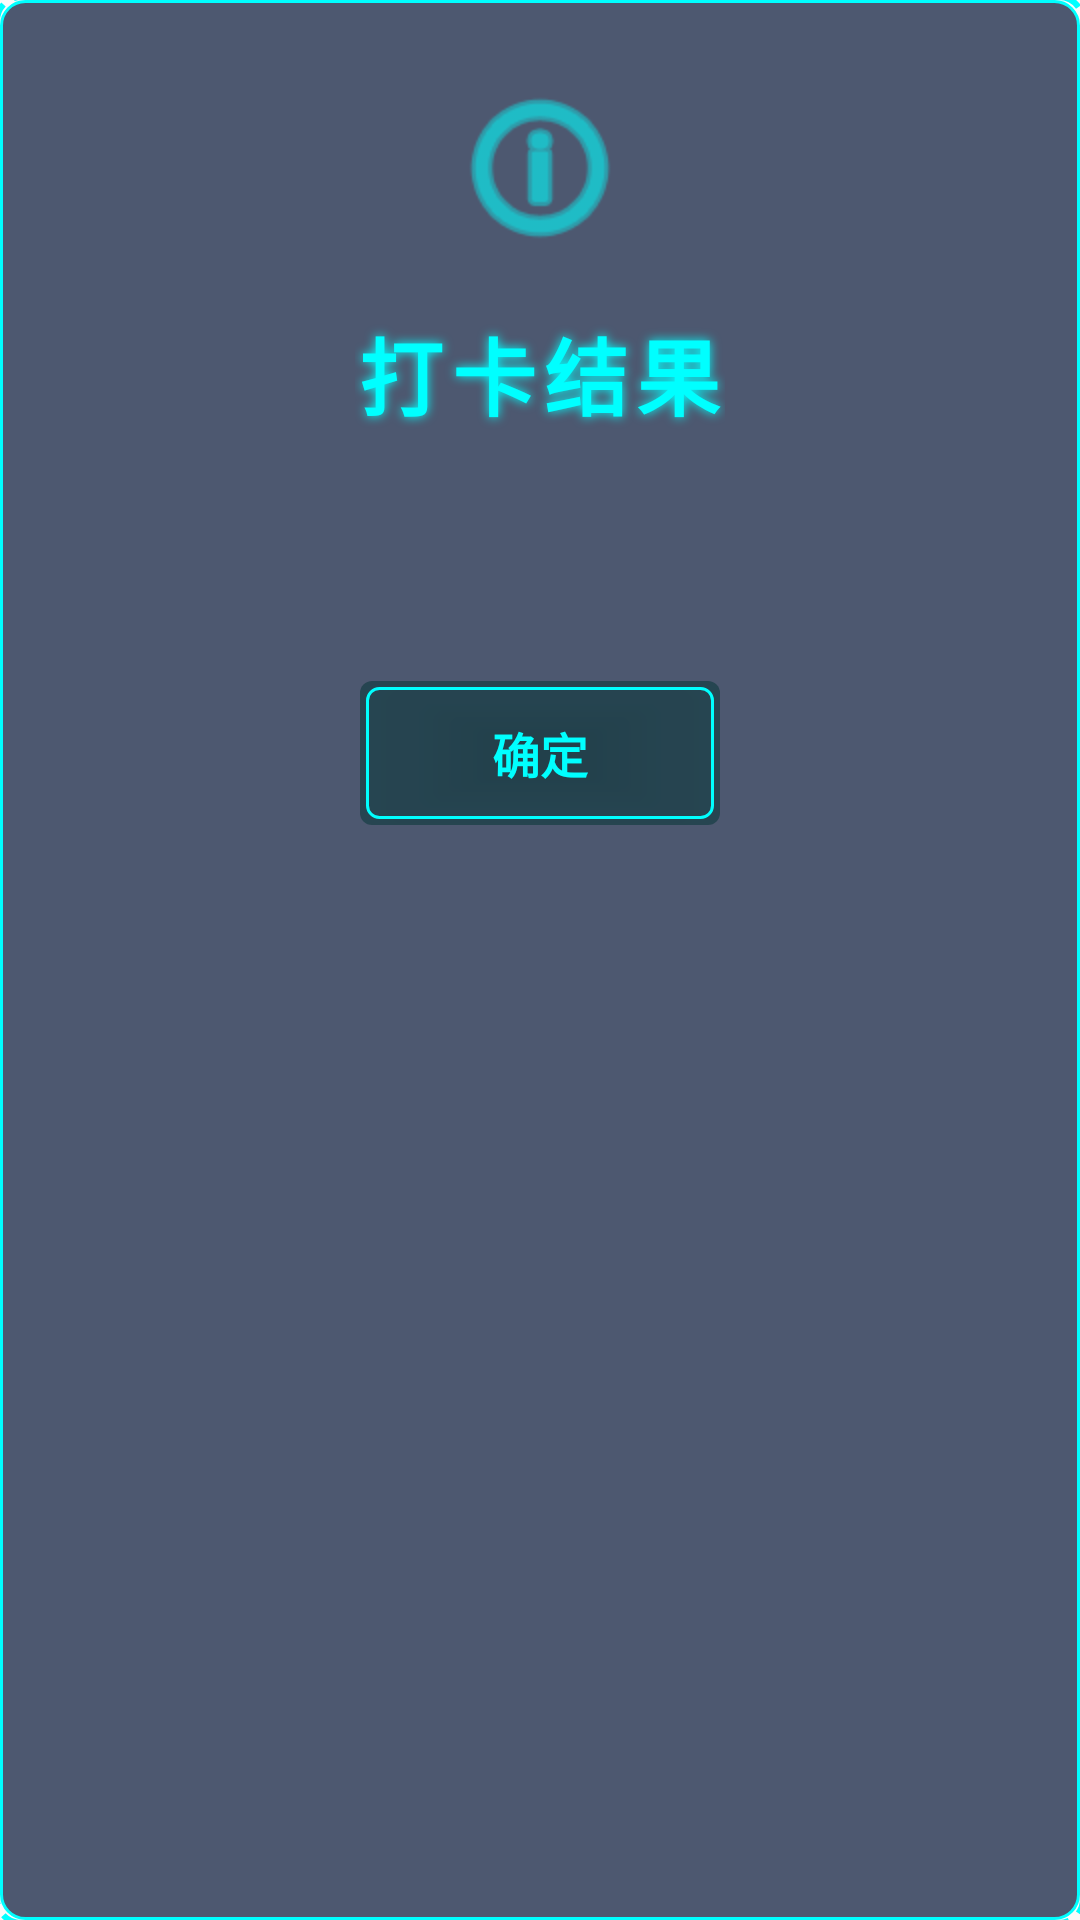

Point at icon controls on the screen. Image size 1080 × 1920, points as [x,y].
info details: [540,168]
